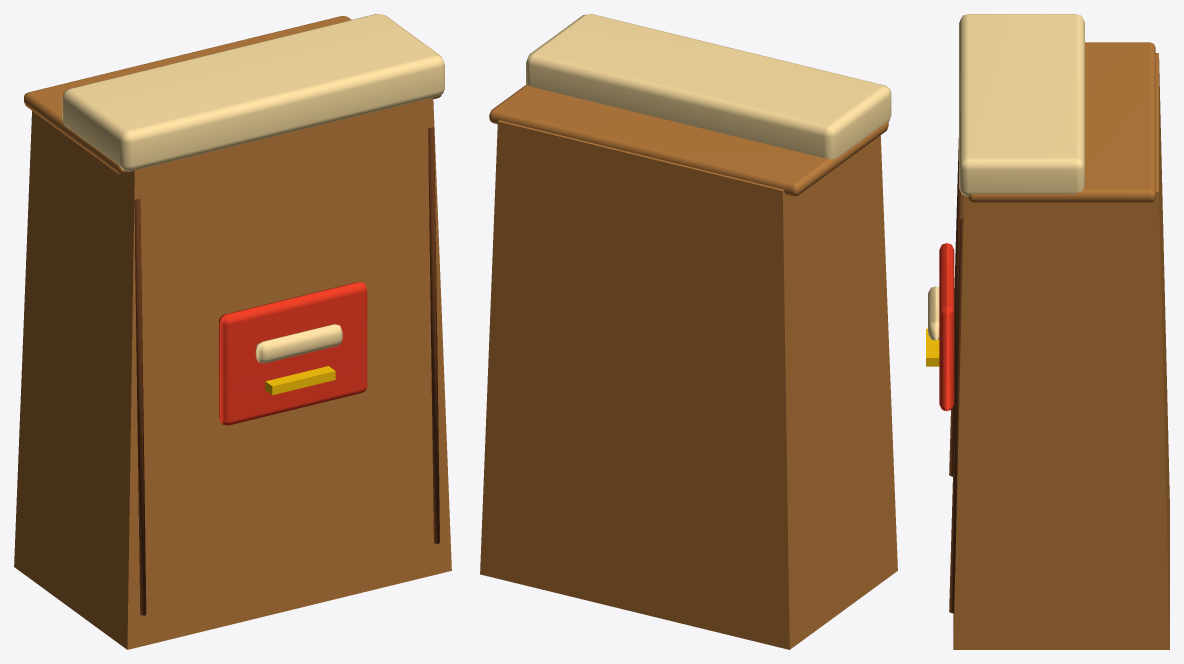
File: 29_Takeaway_Bag.glb
3 views of the same model, side by side, from view 1: azimuth 30°, elevation 25°; view 2: azimuth 150°, elevation 25°; view 3: azimuth 270°, elevation 25° (orthographic). The views are drawn at different scales.
Visible parts, largest first — view 1: 29_Takeaway_Bag_EXPORT; view 2: 29_Takeaway_Bag_EXPORT; view 3: 29_Takeaway_Bag_EXPORT.
Boxes of the visible parts, x1,y1,x2,y2 form: 29_Takeaway_Bag_EXPORT: (14,14,451,649); 29_Takeaway_Bag_EXPORT: (480,14,897,649); 29_Takeaway_Bag_EXPORT: (926,14,1169,649).
Size of the model in its own units: 0.38 by 0.573 by 0.259.
